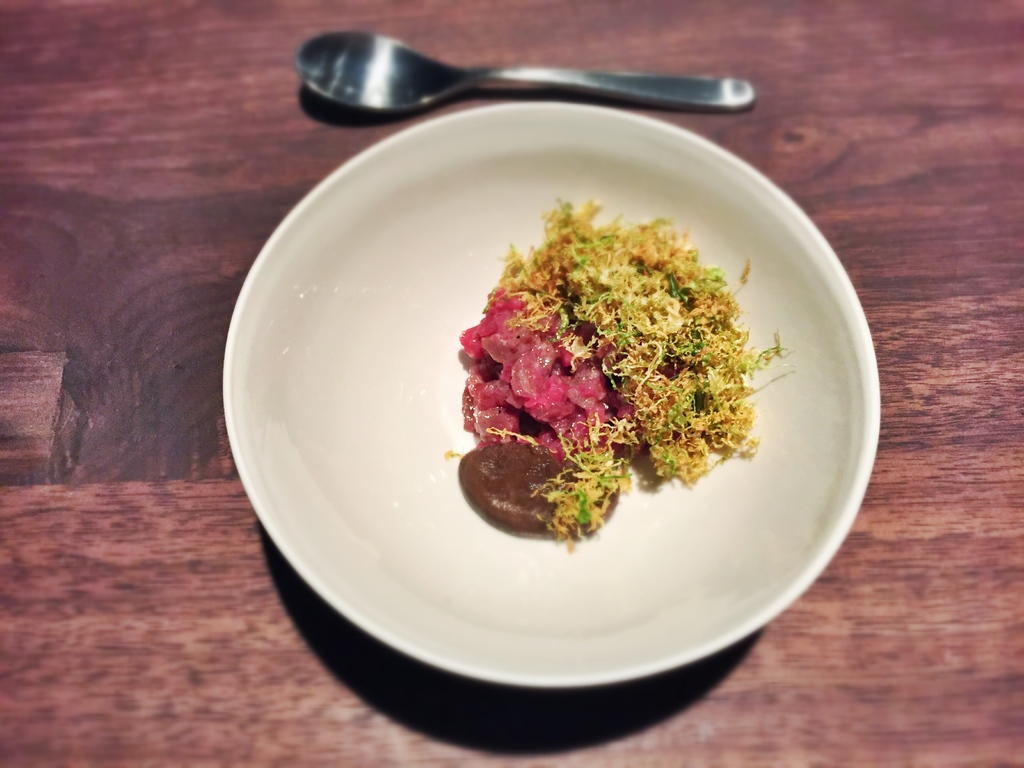plate: (238, 98, 871, 682)
